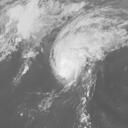cyclone: (50, 40, 93, 89)
